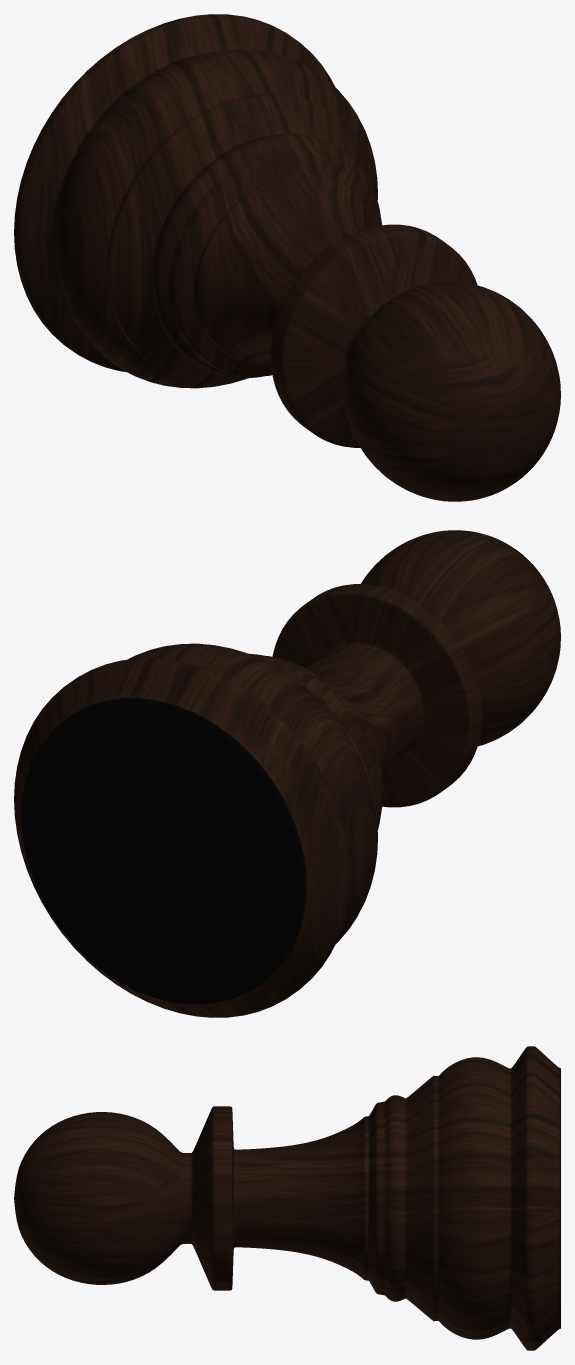
File: pawn.glb
3 renders of one model, top to bottom at view 1: azimuth 30°, elevation 25°; view 2: azimuth 150°, elevation 25°; view 3: azimuth 270°, elevation 25°, orthographic. The views are drawn at different scales.
Visible parts, largest first — view 1: Node1; view 2: Node1; view 3: Node1.
Part boxes in pixels (x1,y1,x2,y2): Node1: (14, 14, 560, 501); Node1: (14, 530, 560, 1017); Node1: (14, 1046, 560, 1350).
Size of the model in its own units: 4.56 by 4.56 by 8.17.
1 material, 1 textured.
